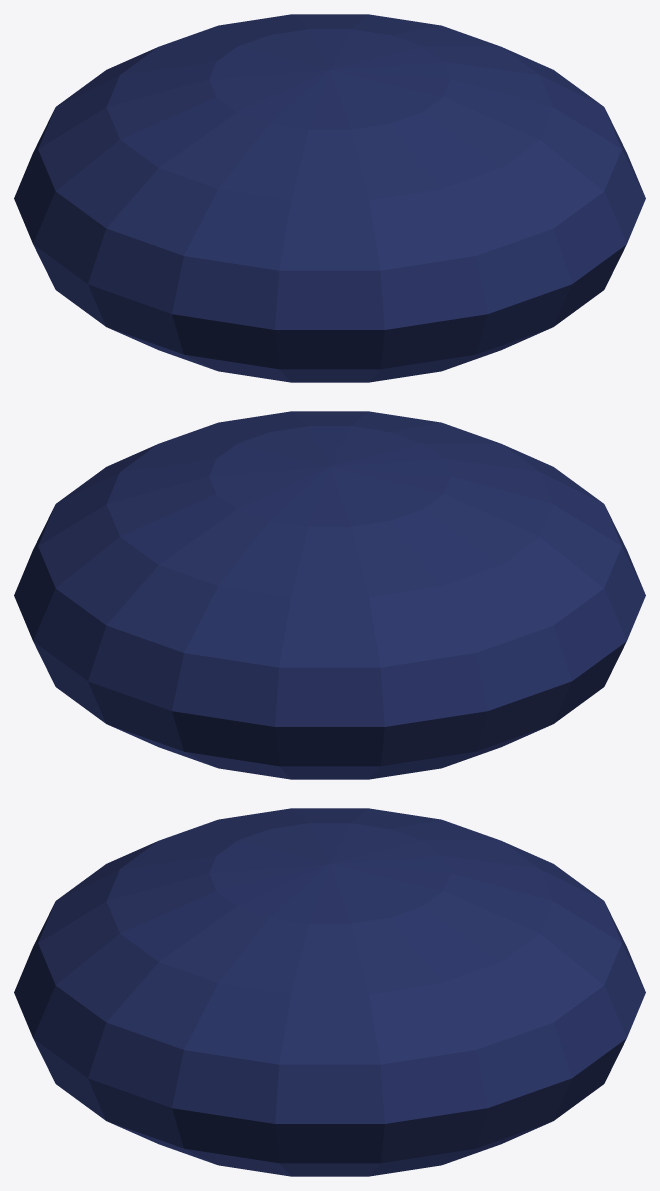
The model's file is beret.glb.
3 renders of one model, top to bottom at view 1: azimuth 30°, elevation 25°; view 2: azimuth 150°, elevation 25°; view 3: azimuth 270°, elevation 25°, orthographic.
Visible parts, largest first — view 1: beret; view 2: beret; view 3: beret.
Boxes of the visible parts, x1,y1,x2,y2 form: beret: [14, 14, 645, 382]; beret: [14, 411, 645, 779]; beret: [14, 808, 645, 1176].
Size of the model in its own units: 0.453 by 0.207 by 0.46.
